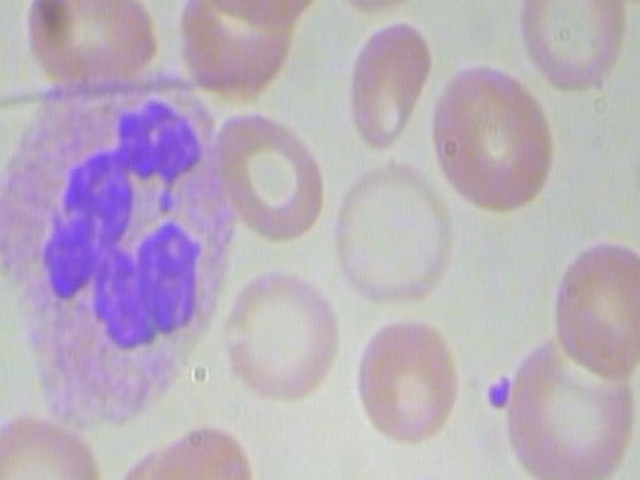Platelets: (483, 371, 522, 415), (409, 473, 461, 480)
RBC: (498, 322, 640, 480), (425, 59, 559, 223), (325, 158, 456, 317), (215, 258, 345, 410), (205, 103, 329, 250), (355, 308, 470, 452), (11, 0, 167, 92), (546, 233, 640, 385), (349, 7, 431, 154), (520, 0, 637, 102), (125, 420, 263, 480), (0, 410, 110, 480), (201, 0, 335, 29), (324, 0, 434, 22)
WBC: (0, 63, 254, 436)
